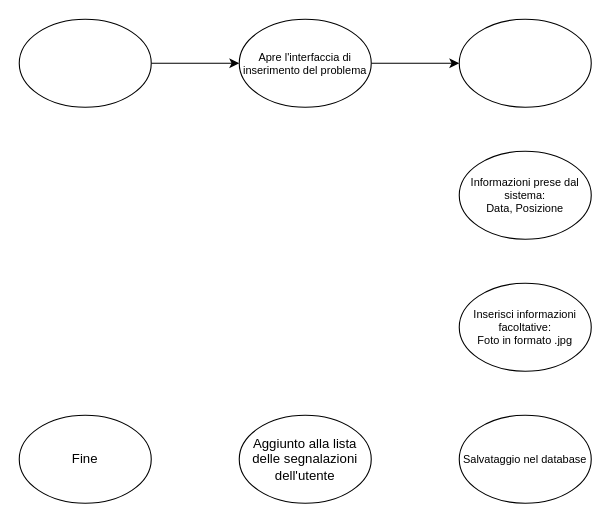
Image size: 611x523. Some labels were removed from this diagram. Each missing label, with the centre of its shape:
"Inizio - segnalazione" belongs at pixel 84 62.
"Inserisci informazioni obbligatorie: Titolo, Categoria, Descrizione" belongs at pixel 524 62.
